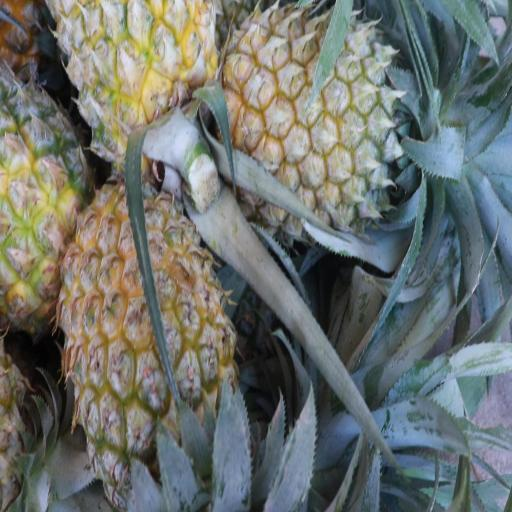------------------------------: (0, 58, 95, 340)
Pineapple - v8 v1: (52, 173, 244, 509), (208, 0, 414, 249), (35, 0, 222, 243)
